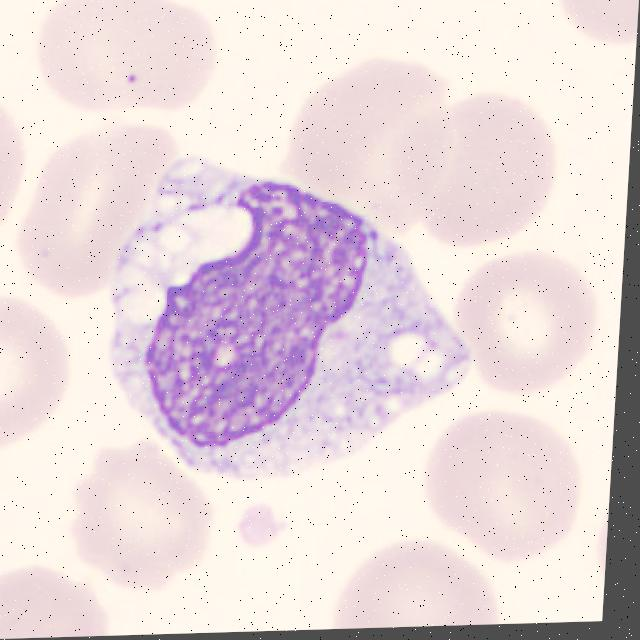monocyte: (77, 151, 480, 488)
rbc: (268, 65, 465, 248), (19, 111, 194, 303), (413, 397, 589, 565), (391, 90, 570, 248), (30, 0, 226, 129), (61, 442, 228, 591), (445, 247, 601, 395), (312, 529, 513, 630), (0, 290, 76, 456), (0, 551, 126, 640), (0, 59, 44, 260), (551, 0, 640, 57)
